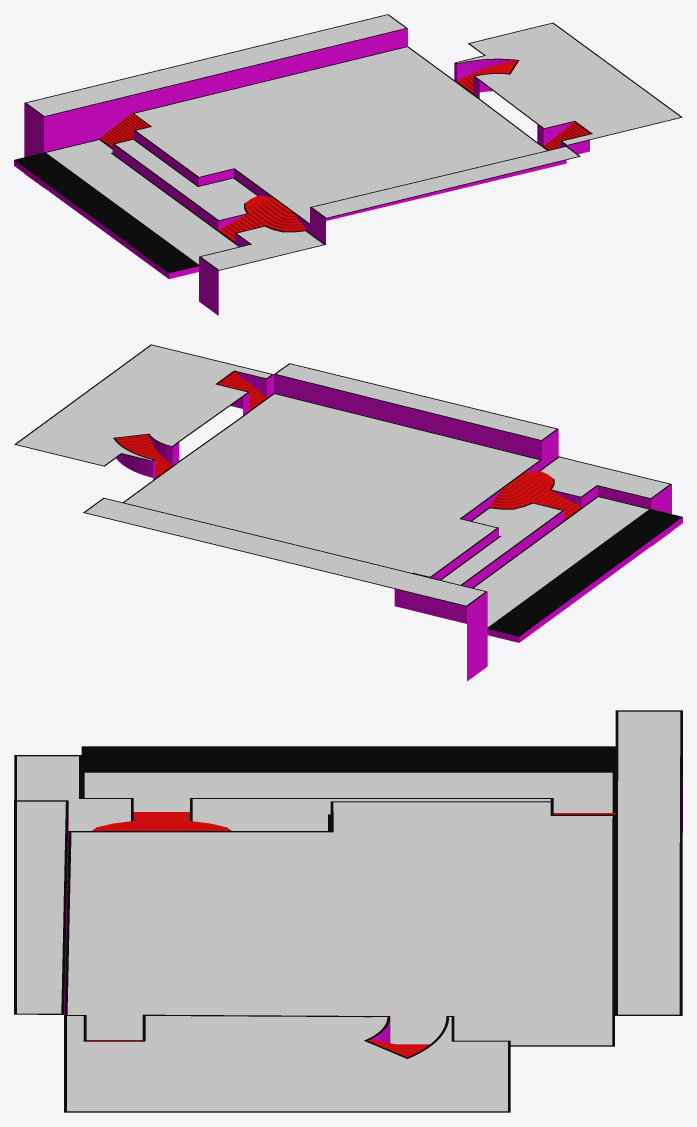
Rendered from Platue.fbx.
3 renders of one model, top to bottom at view 1: azimuth 30°, elevation 25°; view 2: azimuth 150°, elevation 25°; view 3: azimuth 270°, elevation 25°, orthographic. The views are drawn at different scales.
Parts seen in each view (by area): view 1: Platue; view 2: Platue; view 3: Platue.
Boxes of the visible parts, left/top/right/bottom form: Platue: left=14, top=14, right=682, bottom=315; Platue: left=14, top=344, right=682, bottom=681; Platue: left=14, top=710, right=682, bottom=1112.
Size of the model in its own units: 9000 by 1200 by 5951.
